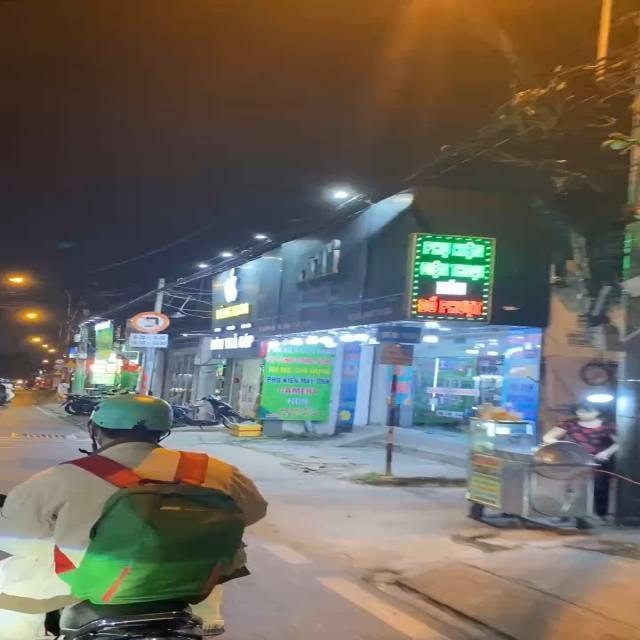123a-cam-re-trai: (132, 311, 172, 333)
